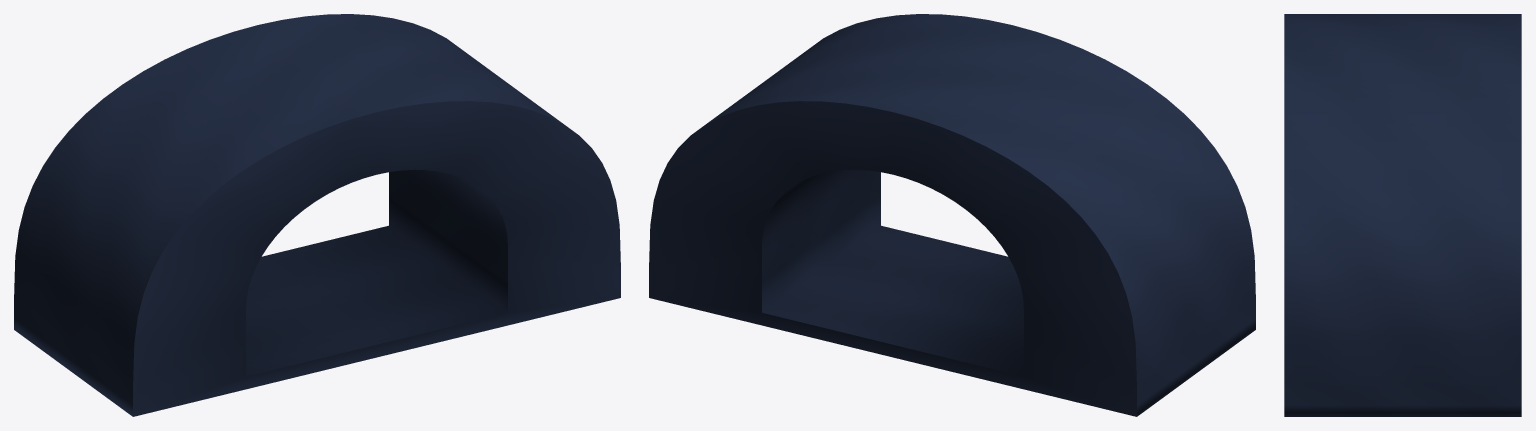
File: straight_12m_terrain.glb
3 views of the same model, side by side, from view 1: azimuth 30°, elevation 25°; view 2: azimuth 150°, elevation 25°; view 3: azimuth 270°, elevation 25° (orthographic).
Visible parts, largest first — view 1: TerrainRoof.004; view 2: TerrainRoof.004; view 3: TerrainRoof.004.
Boxes of the visible parts, left/top/right/bottom form: TerrainRoof.004: left=14, top=14, right=620, bottom=416; TerrainRoof.004: left=649, top=14, right=1255, bottom=416; TerrainRoof.004: left=1284, top=14, right=1521, bottom=416.
Size of the model in its own units: 28.4 by 13.65 by 12.
